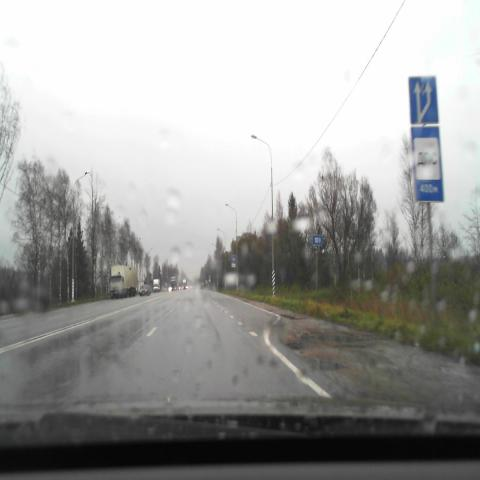7_12: (412, 128, 444, 202)
